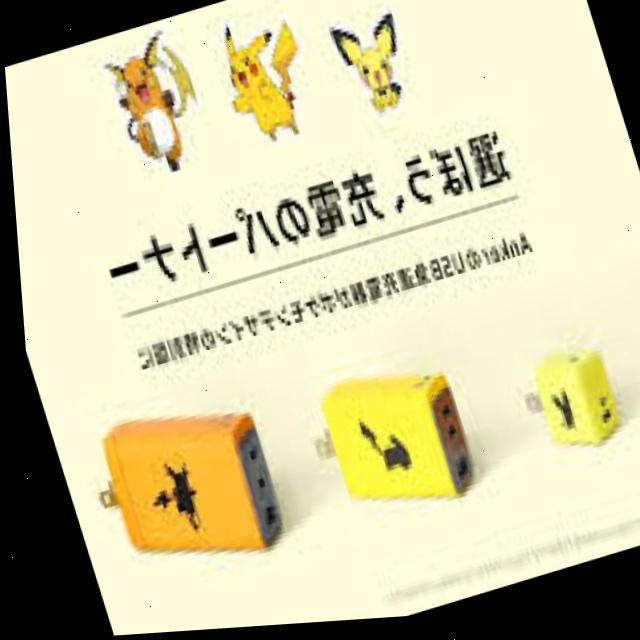pichu: (323, 10, 413, 124)
